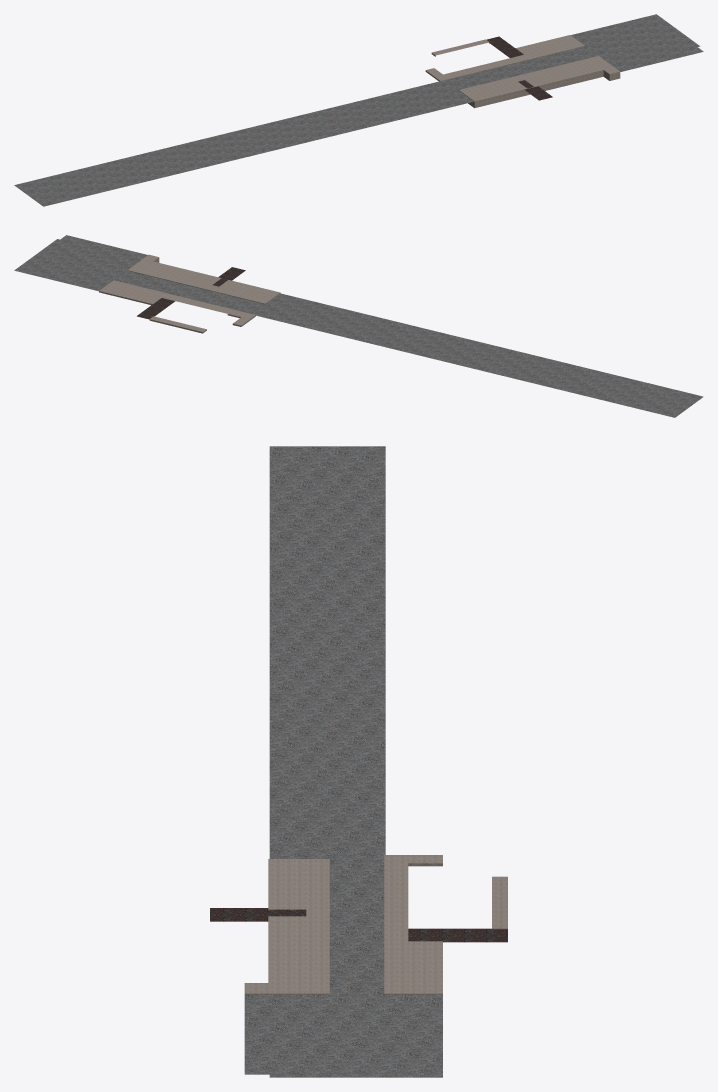
File: TestGround.fbx
3 views of the same model, one above another, from view 1: azimuth 30°, elevation 25°; view 2: azimuth 150°, elevation 25°; view 3: azimuth 270°, elevation 25° (orthographic). The views are drawn at different scales.
Parts seen in each view (by area): view 1: Plane.011; view 2: Plane.011; view 3: Plane.011.
Boxes of the visible parts, bbox=[...] form: Plane.011: bbox=[14, 14, 703, 206]; Plane.011: bbox=[14, 235, 703, 417]; Plane.011: bbox=[210, 446, 507, 1077].
Size of the model in its own units: 12141 by 121 by 2423.
Materials: 3 (3 with a texture image).
